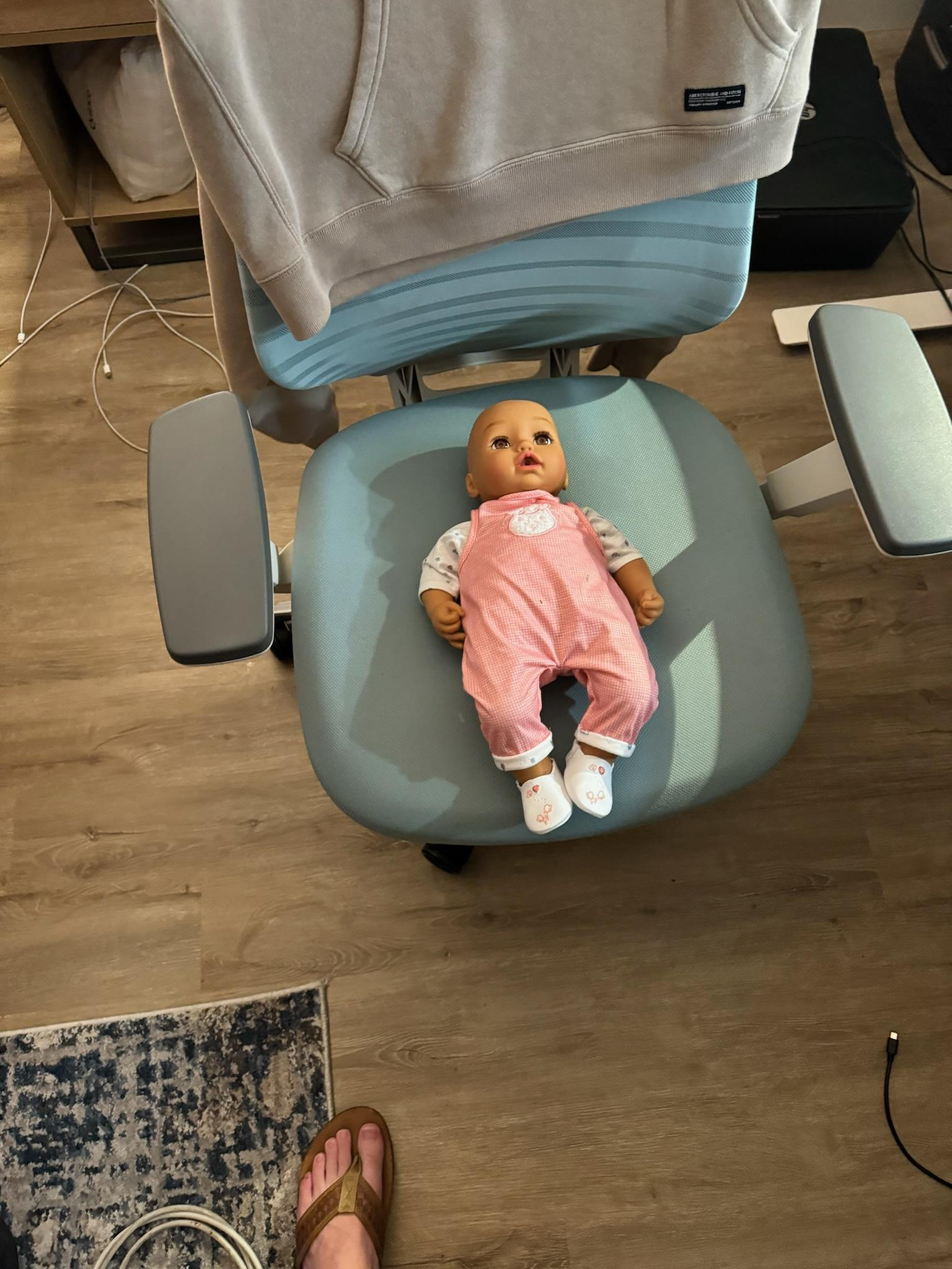baby: (417, 397, 686, 845)
